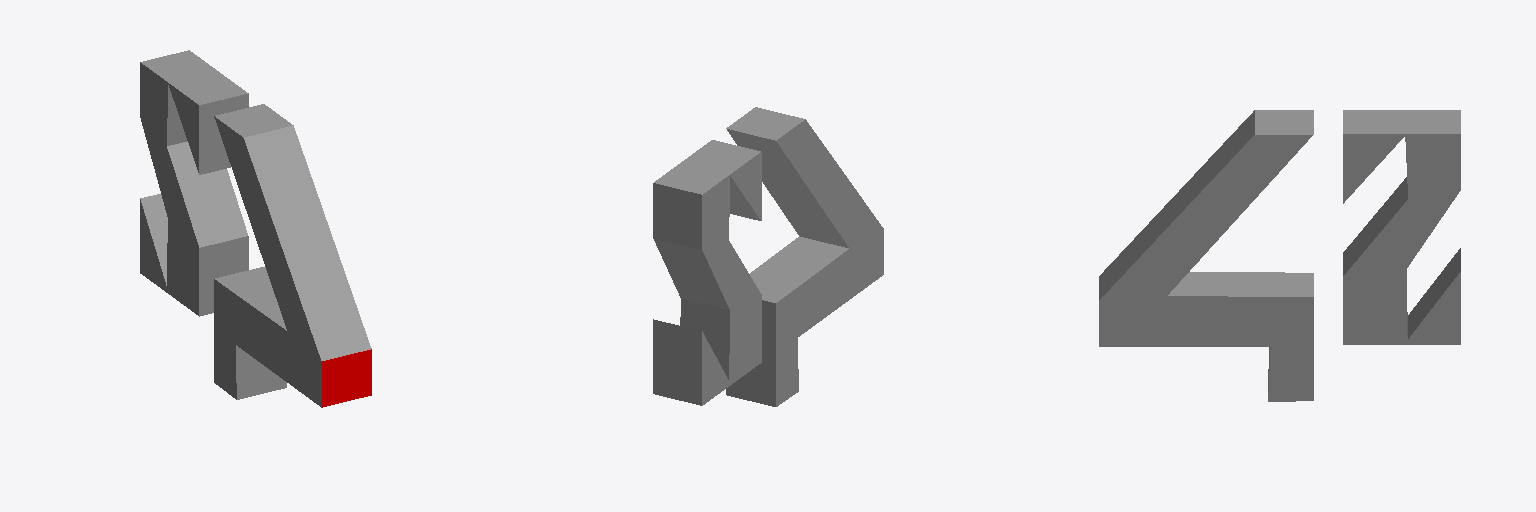
File: 42_debug.obj
3 renders of one model, left to right at view 1: azimuth 30°, elevation 25°; view 2: azimuth 150°, elevation 25°; view 3: azimuth 270°, elevation 25°, orthographic.
Parts seen in each view (by area): view 1: Cube.001; view 2: Cube.001; view 3: Cube.001.
Boxes of the visible parts, box(x1,y1,x2,y2) form: Cube.001: box(140, 50, 371, 407); Cube.001: box(653, 107, 883, 406); Cube.001: box(1099, 110, 1460, 401).
Size of the model in its own units: 0.4599 by 2.34 by 2.88.